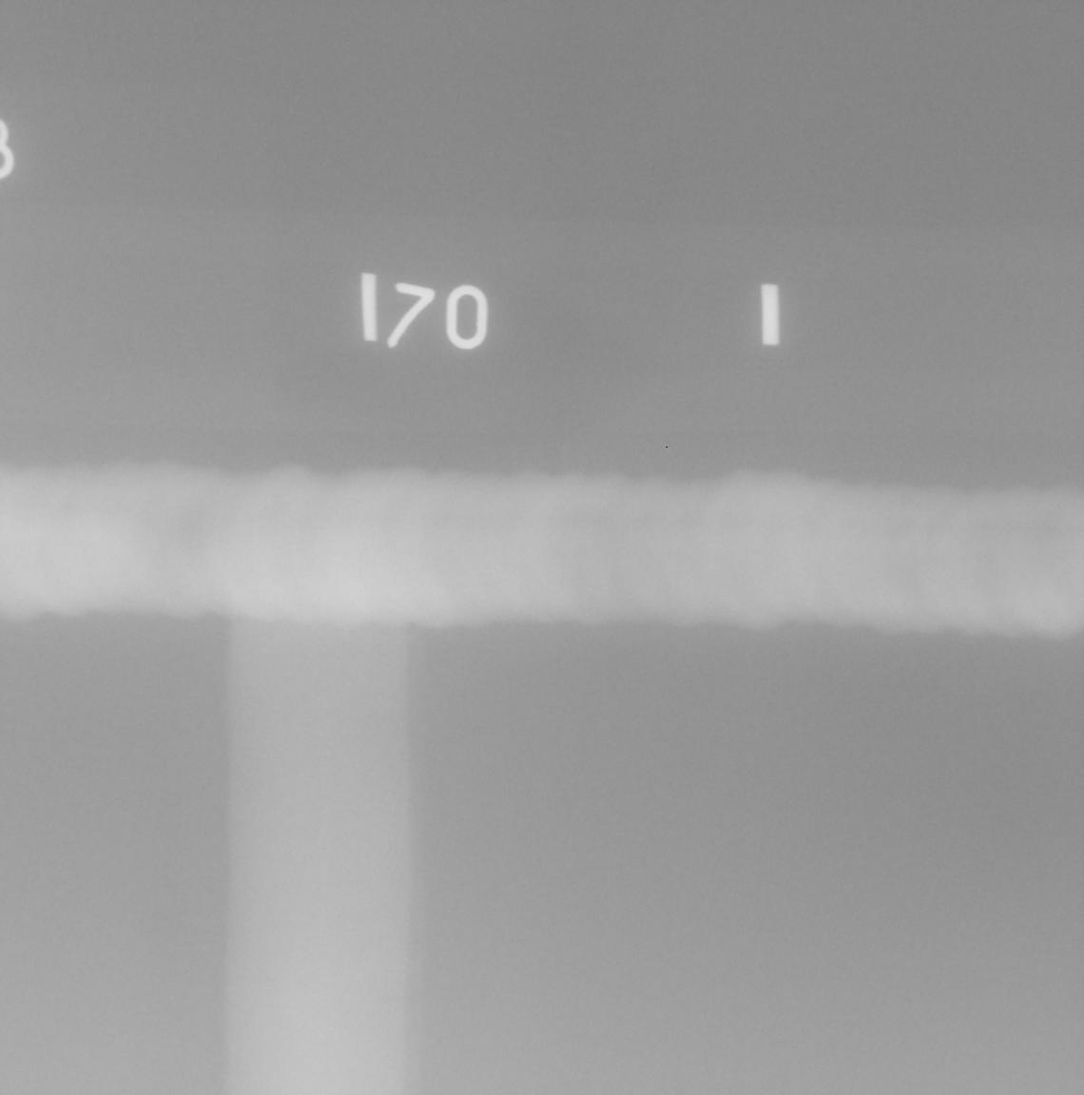Pore/Porosity: (900, 495, 911, 504)
